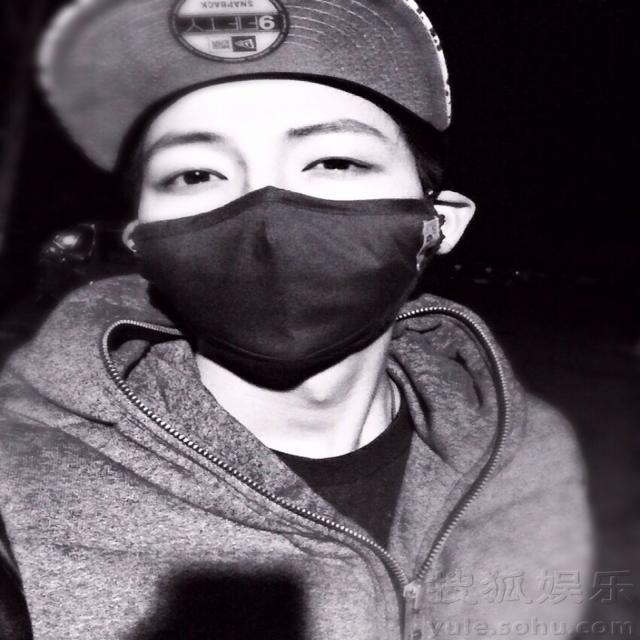mask: (135, 49, 424, 373)
